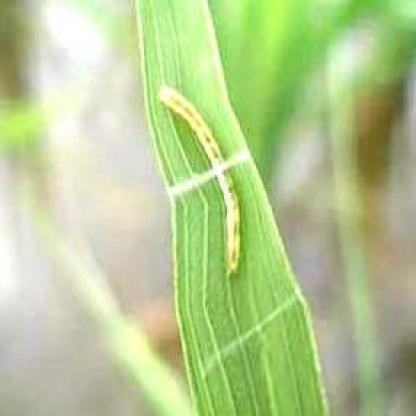leaf-folder: (152, 74, 256, 280)
